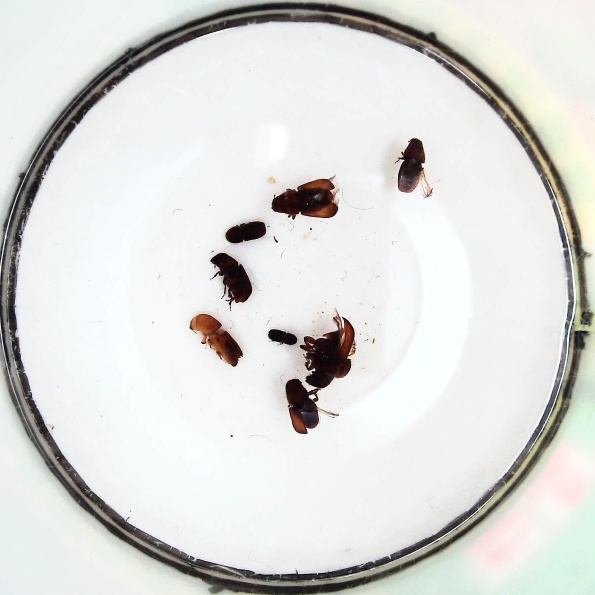boerner: (187, 313, 243, 366)
coleoptera: (268, 327, 300, 348)
leconte: (300, 315, 356, 386), (271, 176, 340, 220), (394, 137, 435, 197), (210, 251, 251, 304), (284, 379, 323, 434)
linnaeus: (223, 219, 268, 246)
